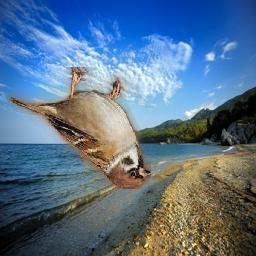Sparrow: (9, 67, 151, 189)
